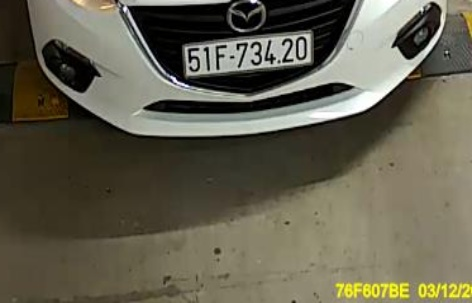plate: (178, 27, 318, 87)
